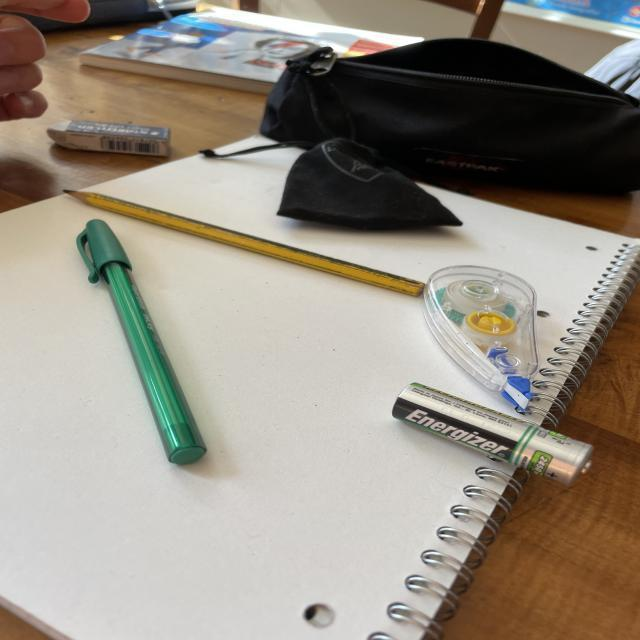Hazard: (385, 380, 603, 488)
